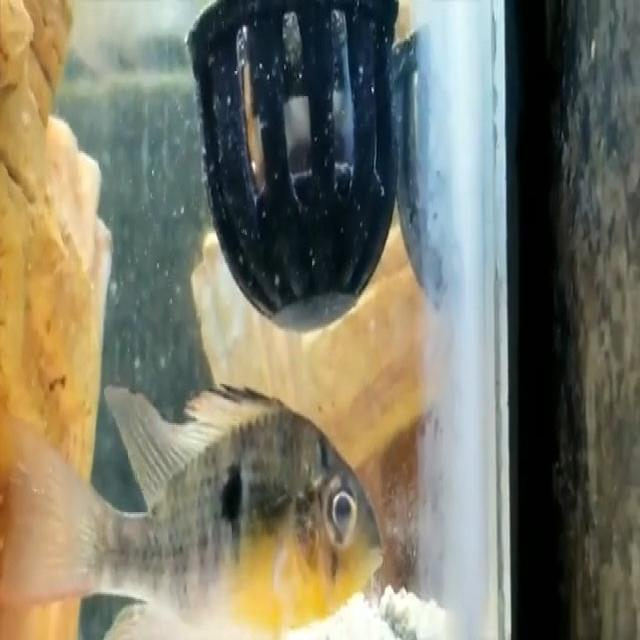fish: (11, 377, 392, 640)
